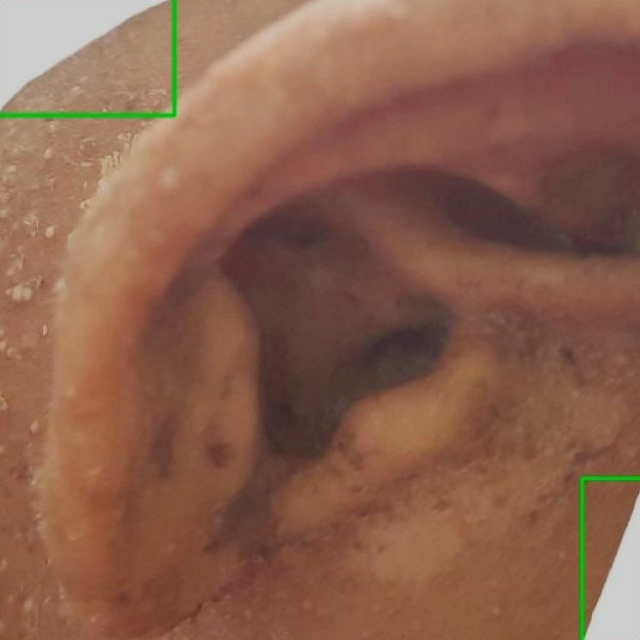Contact Dermatitis: (0, 0, 174, 115), (582, 478, 639, 639)
